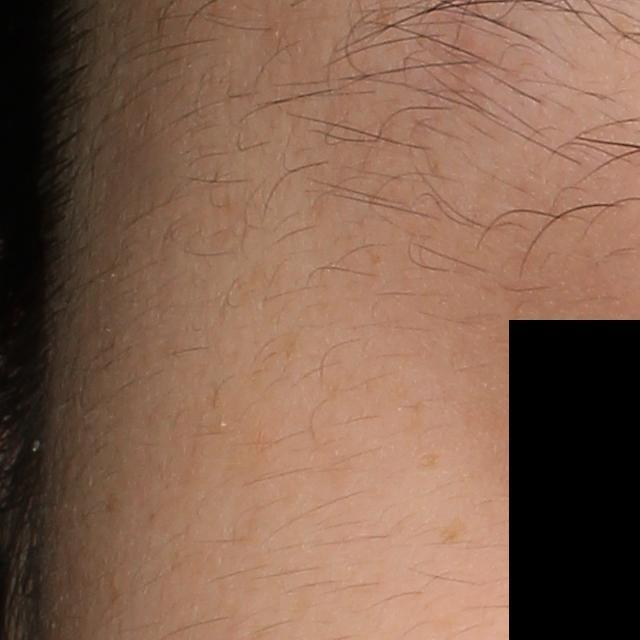melasma: (437, 514, 473, 546)
